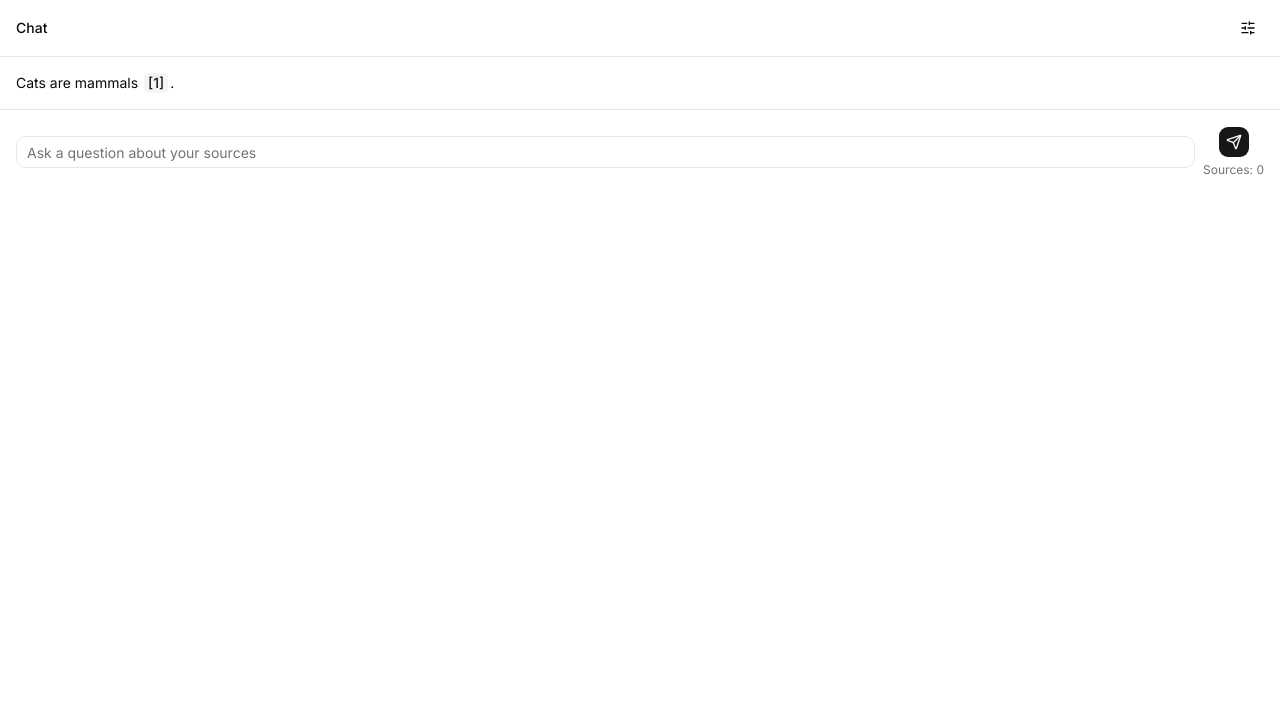
Test: ChatPanel › opens the citation drawer with the exact passage when a marker is clicked
The width and height of the screenshot is (1280, 720).
Click the button "[1]": (156, 83) 144,73 -> 168,93
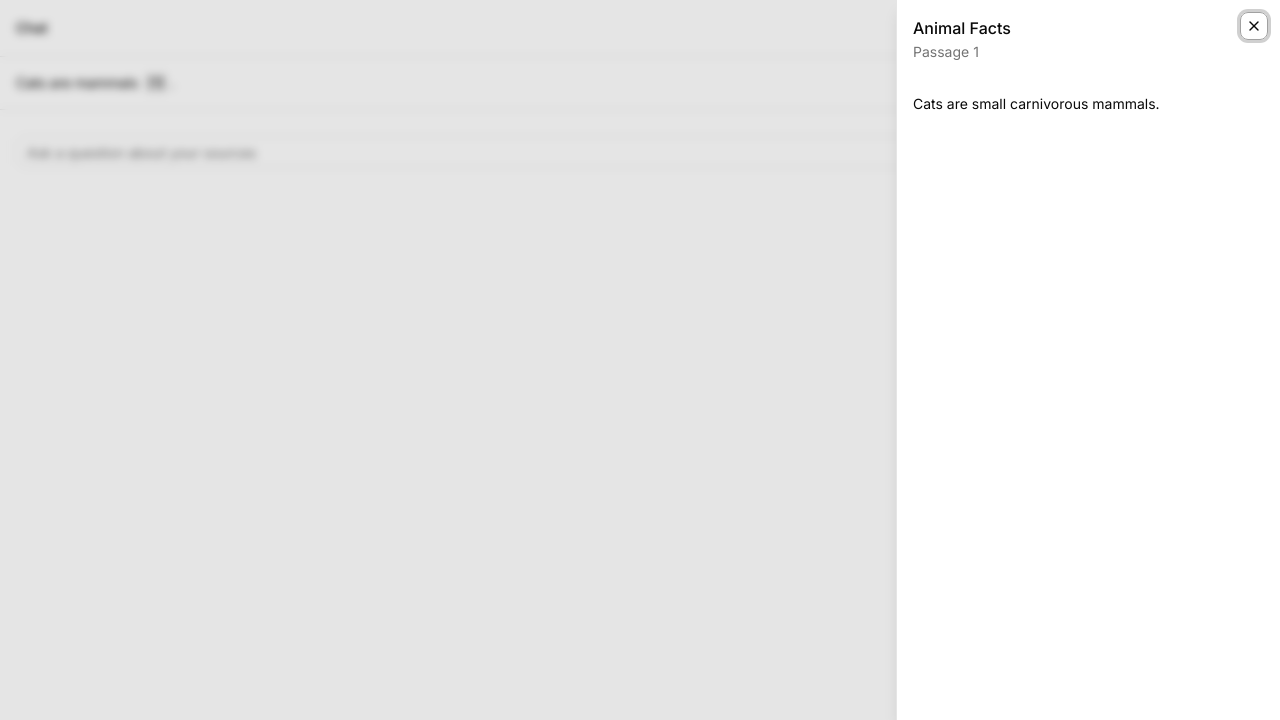
expect the text "Cats are small carnivorous mammals." is shown: met, box 913,95 -> 1160,112
